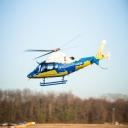helicopter: (24, 40, 111, 89)
